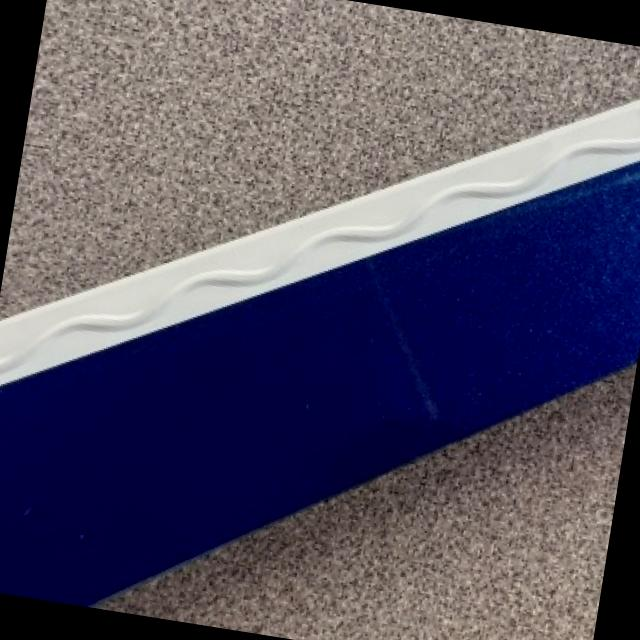healthy: (102, 364, 637, 640)
